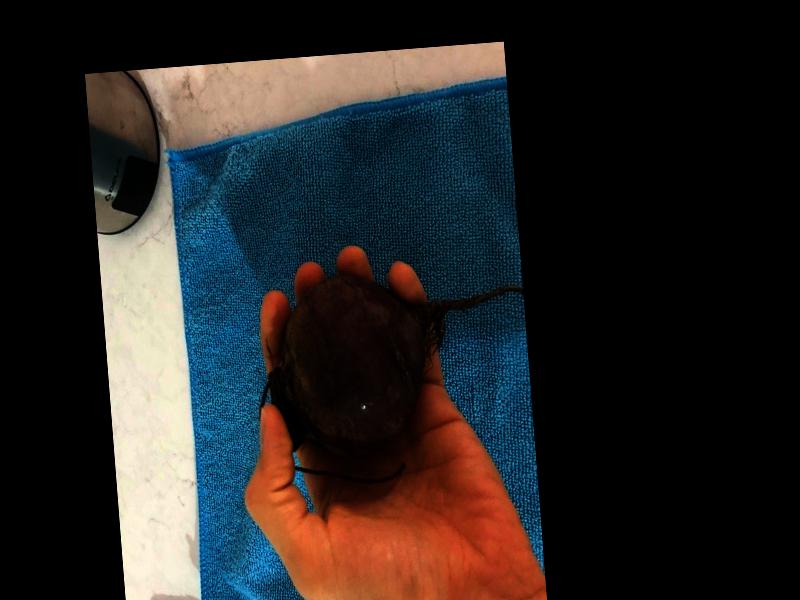Beet: (249, 260, 537, 490)
